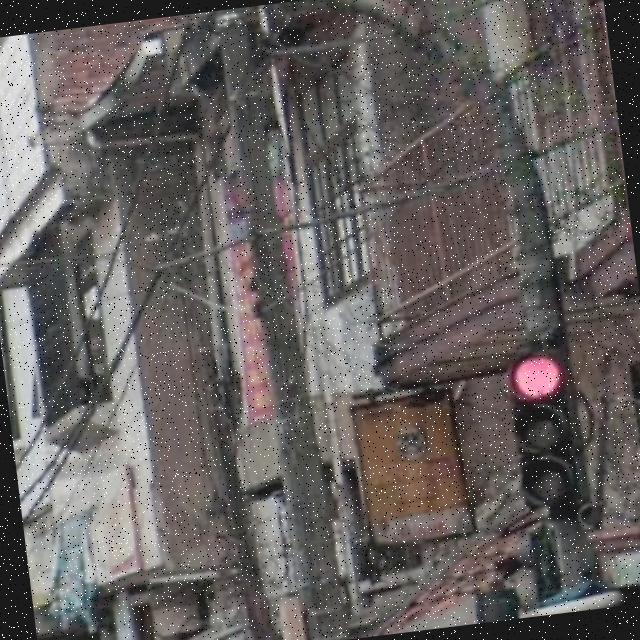Czerwone swiatlo: (502, 345, 594, 514)
